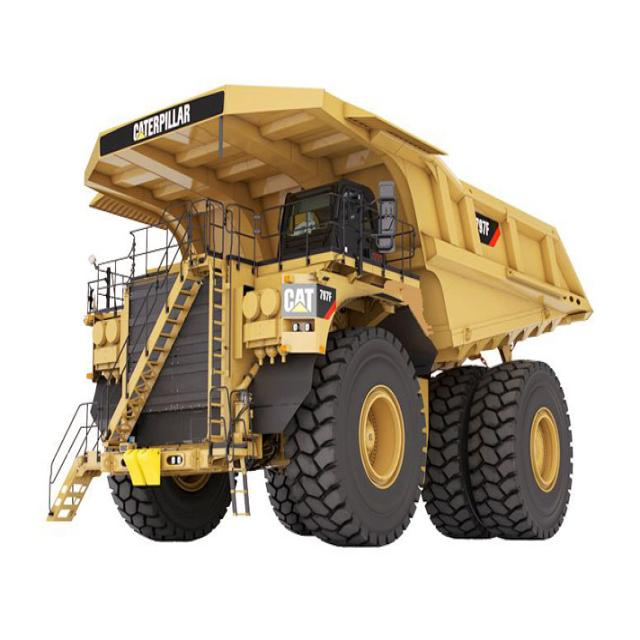dump_truck: (44, 79, 593, 543)
